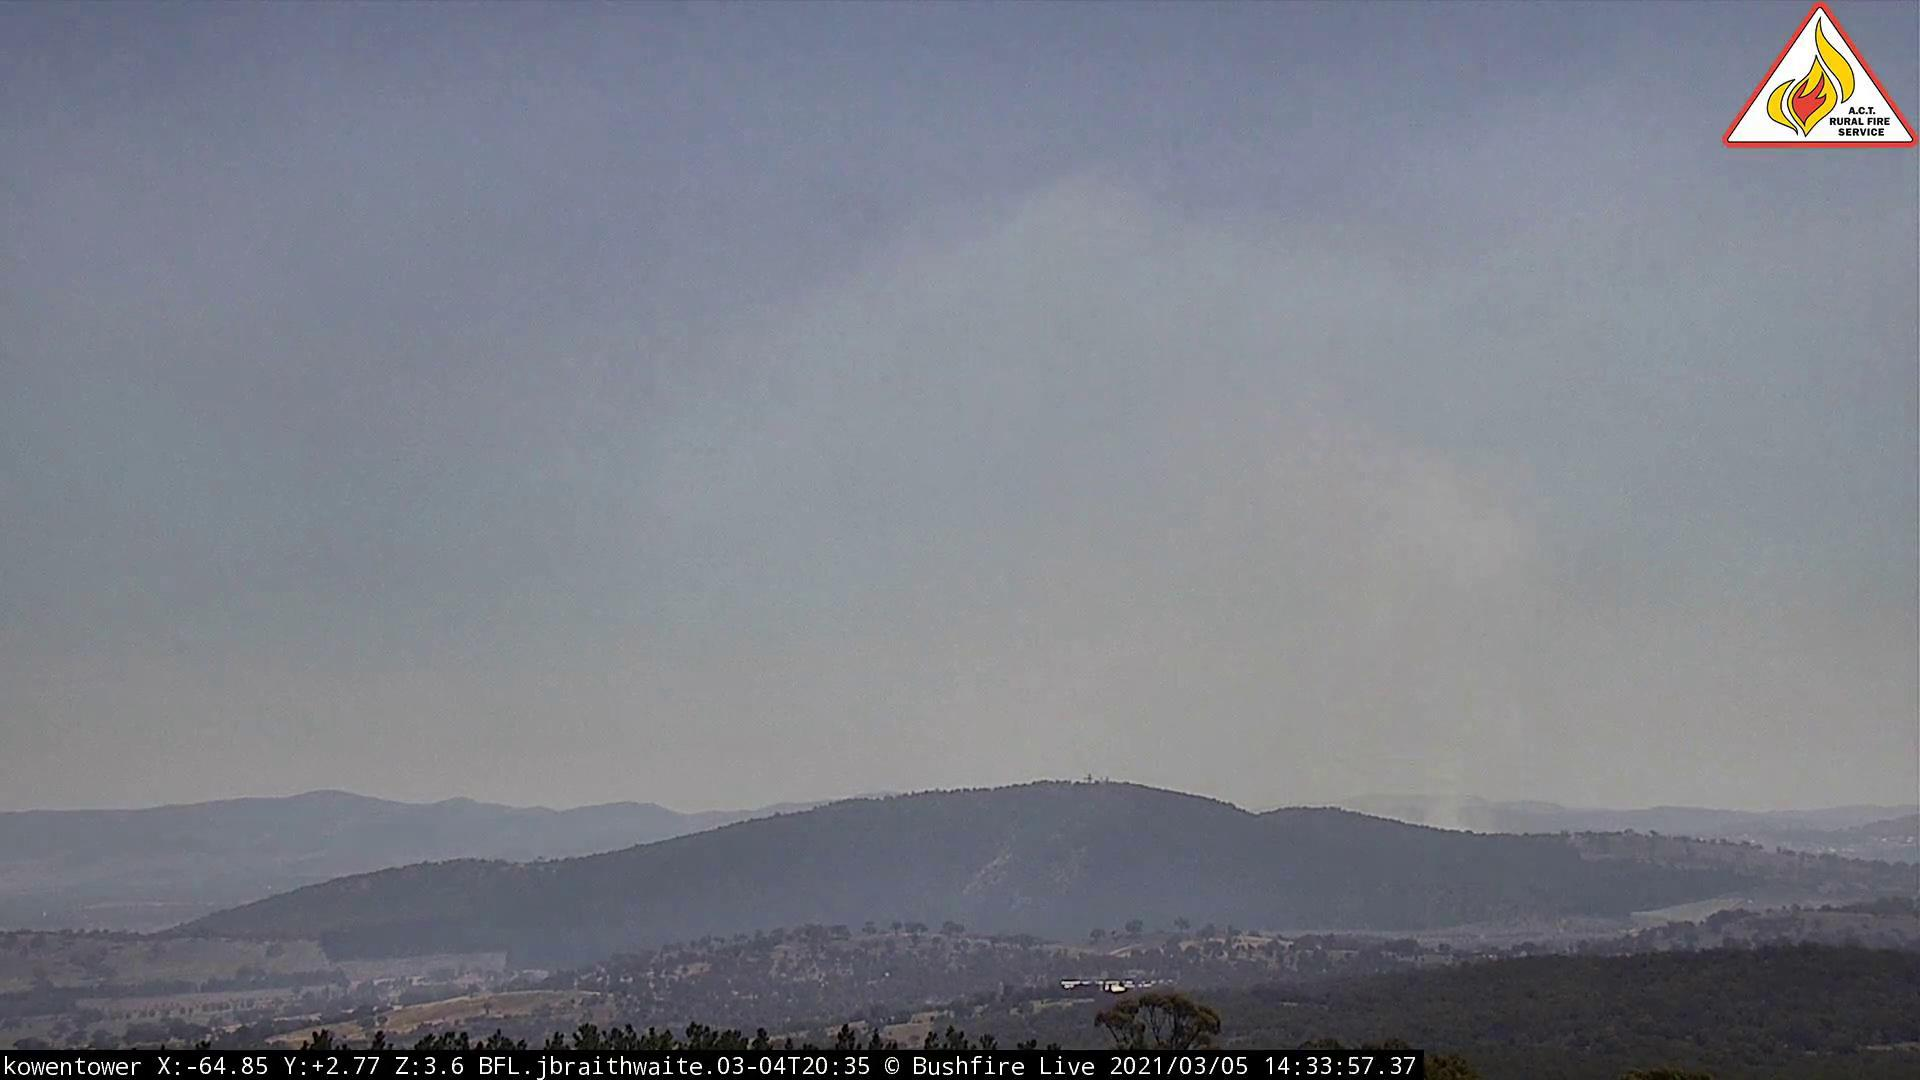Smoke: (1218, 427, 1551, 847)
